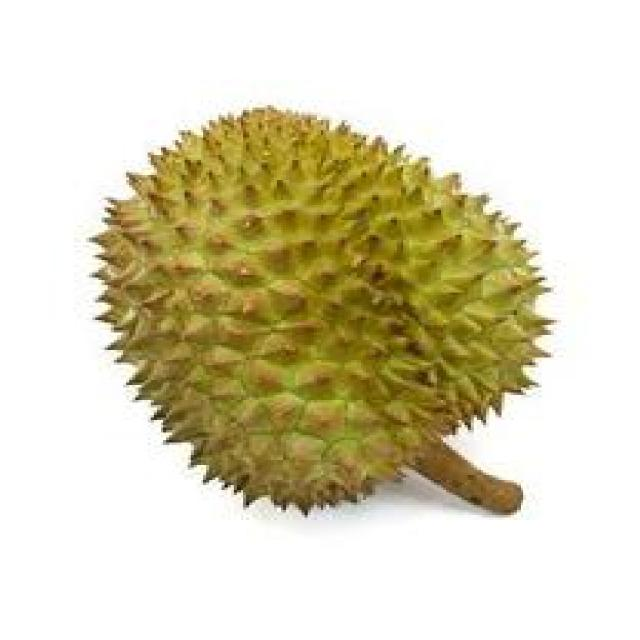fruit: (234, 120, 609, 565), (46, 137, 412, 565)
